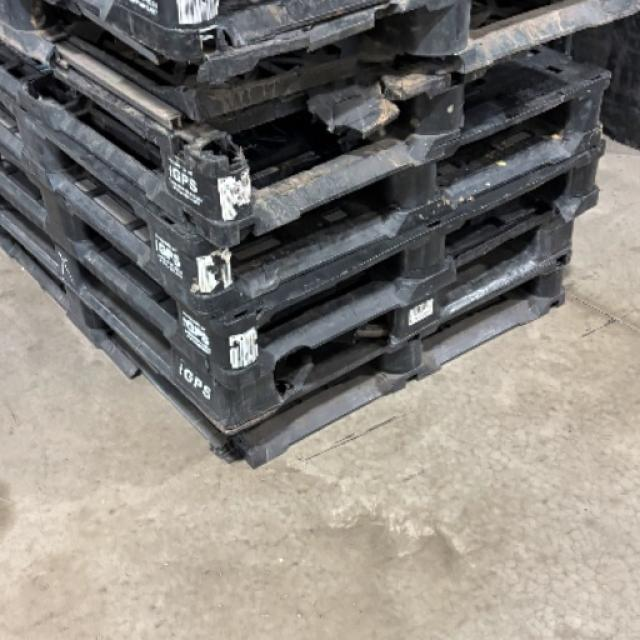igps: (0, 132, 618, 402), (0, 56, 619, 323), (0, 186, 580, 444), (0, 0, 267, 262), (0, 0, 445, 77)
